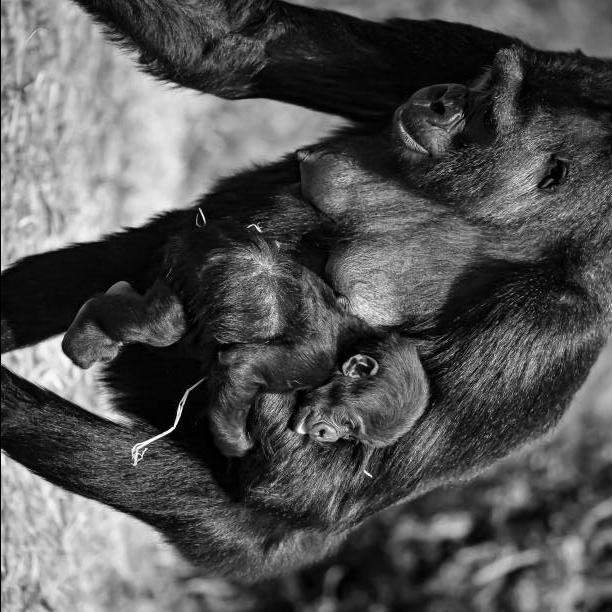gorille_Autres: (1, 34, 612, 606)
